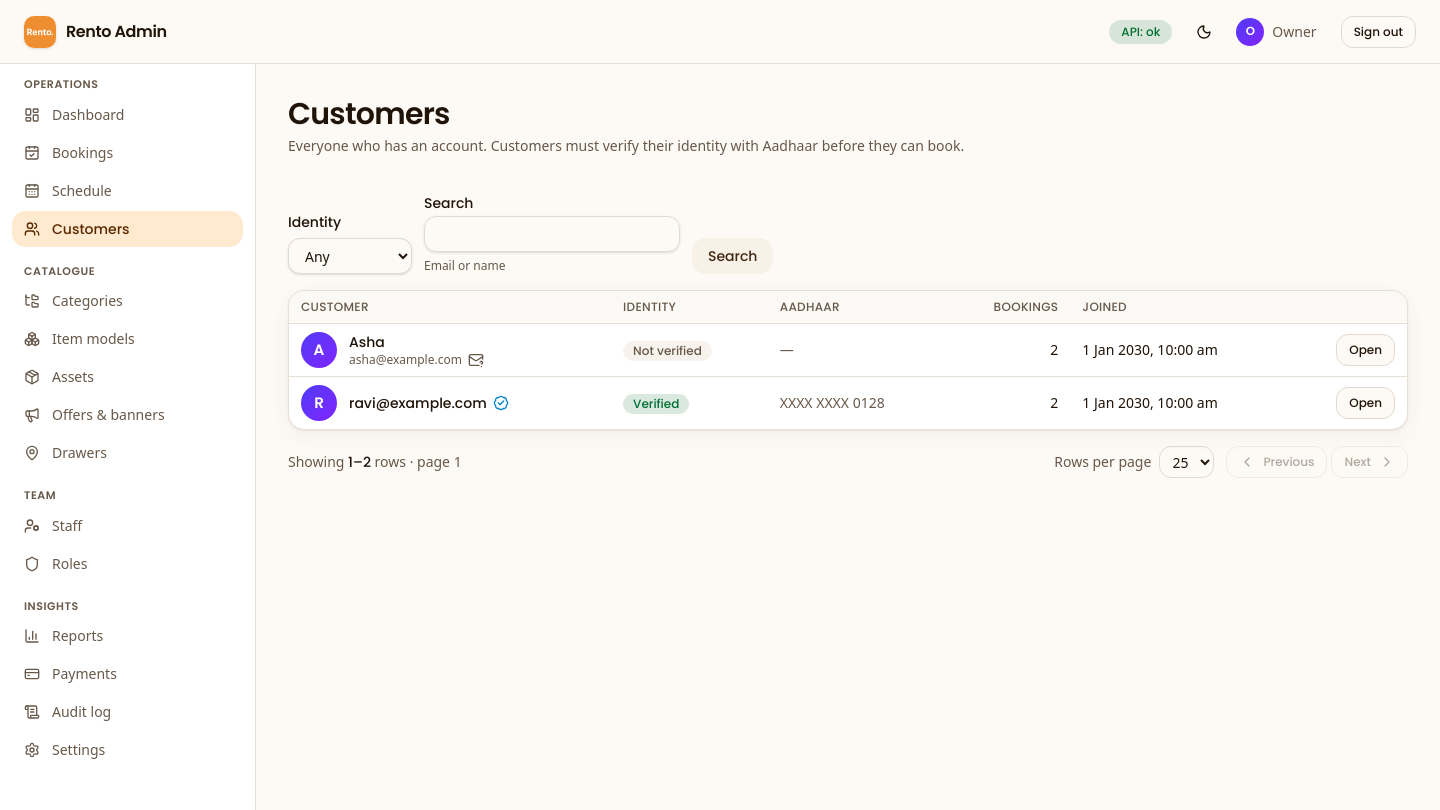
Test: customers › U-08 a refusal by the server (permission changed meanwhile) is shown in the dialog
The image size is (1440, 810).
Step 1. Click the button with aria-label "Open asha@example.com" → [1366, 350], box [1336,334,1395,366]
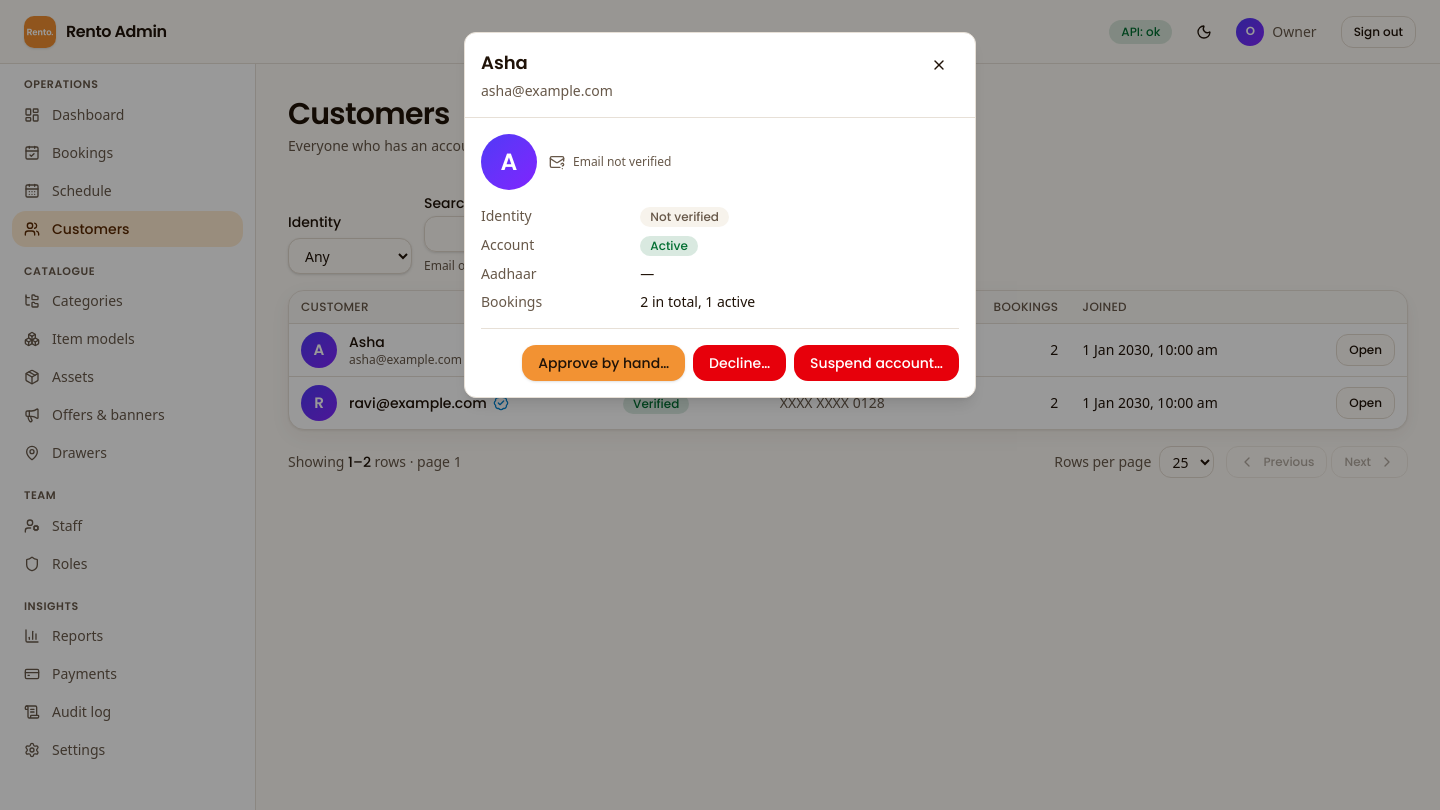
Step 2. Click the button "Decline…" → [740, 363], box [693,345,786,381]
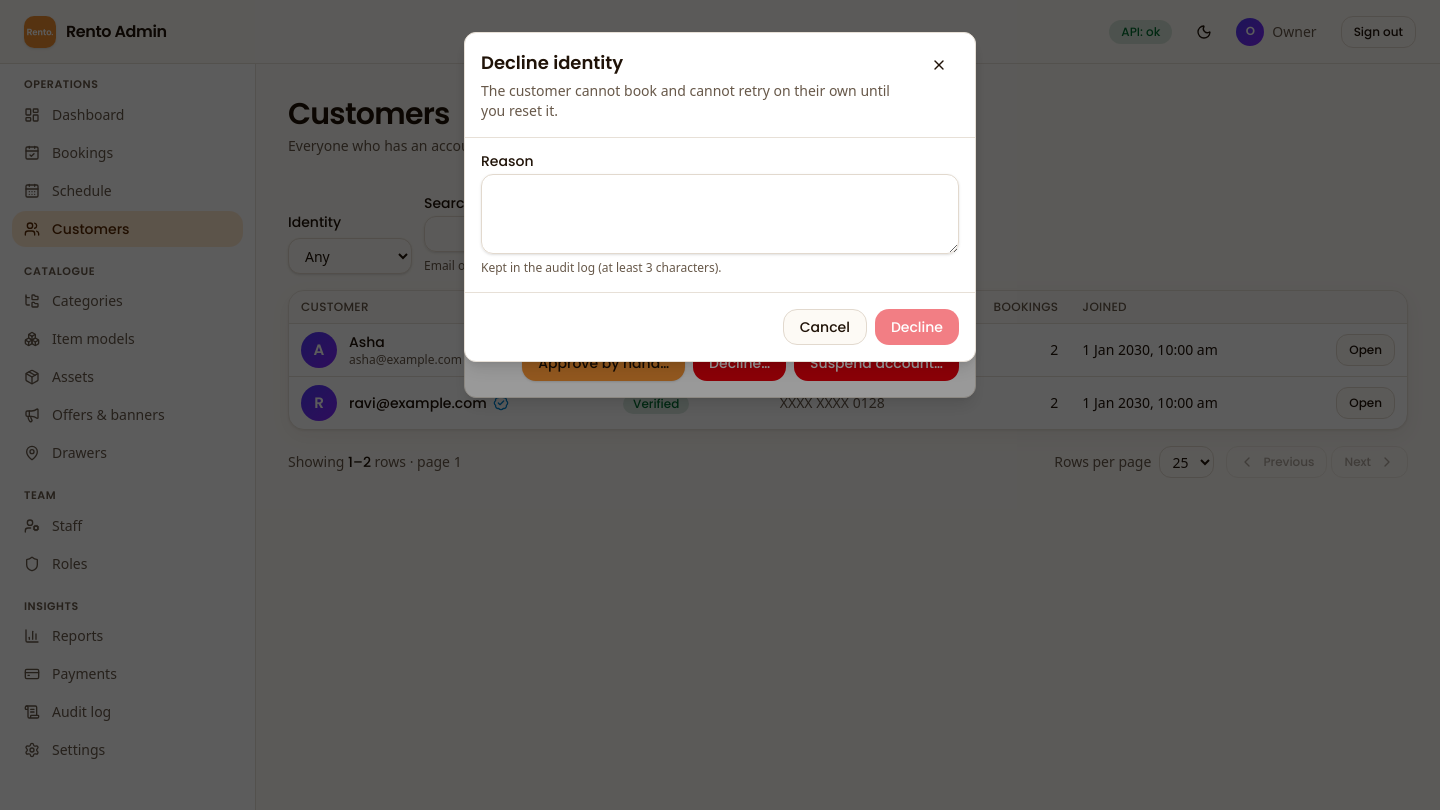
Step 3. Type "Name does not match" into the text box labelled "Reason" → [720, 214], box [481,174,959,254]
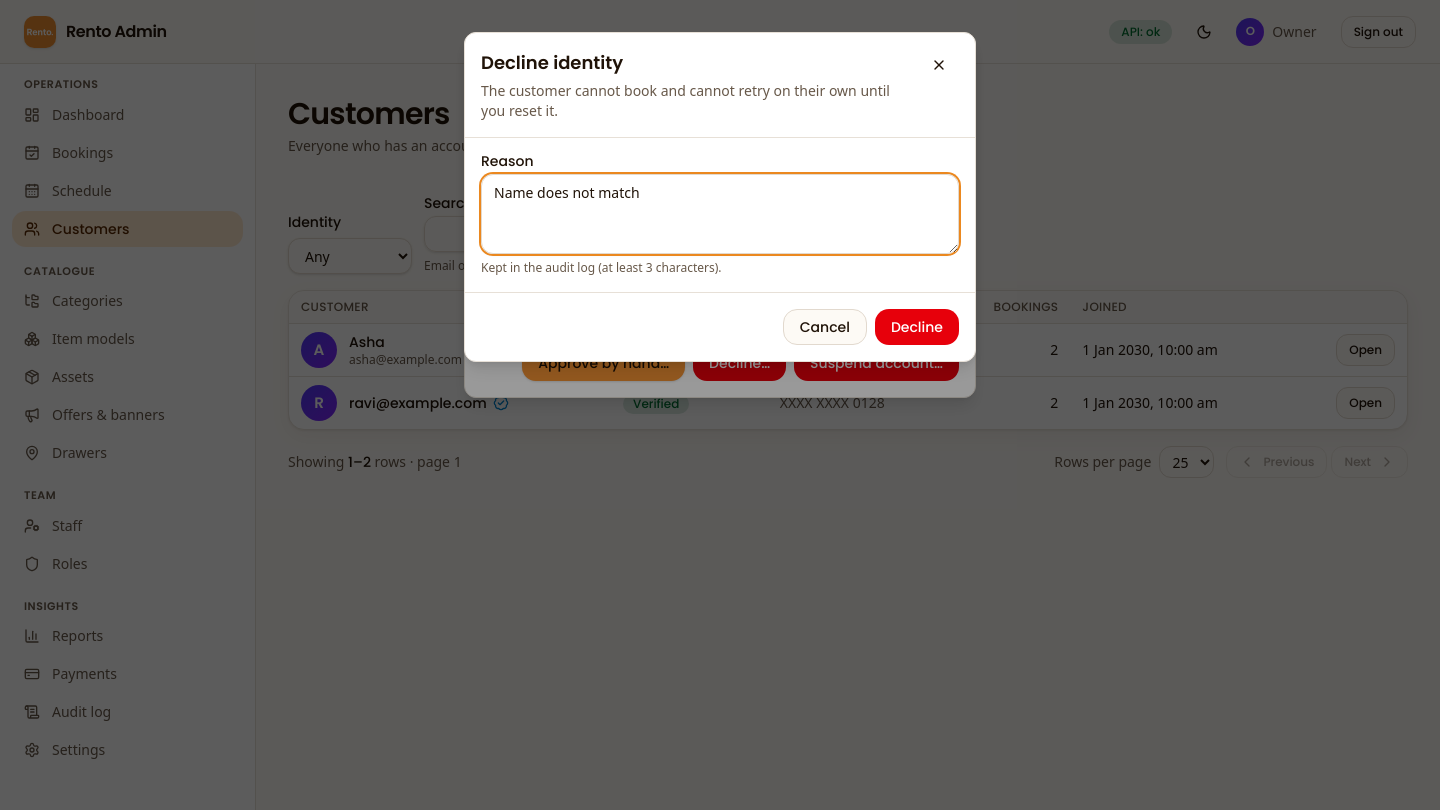
Step 4. Click the button "Decline" → [917, 327], box [875,309,959,345]
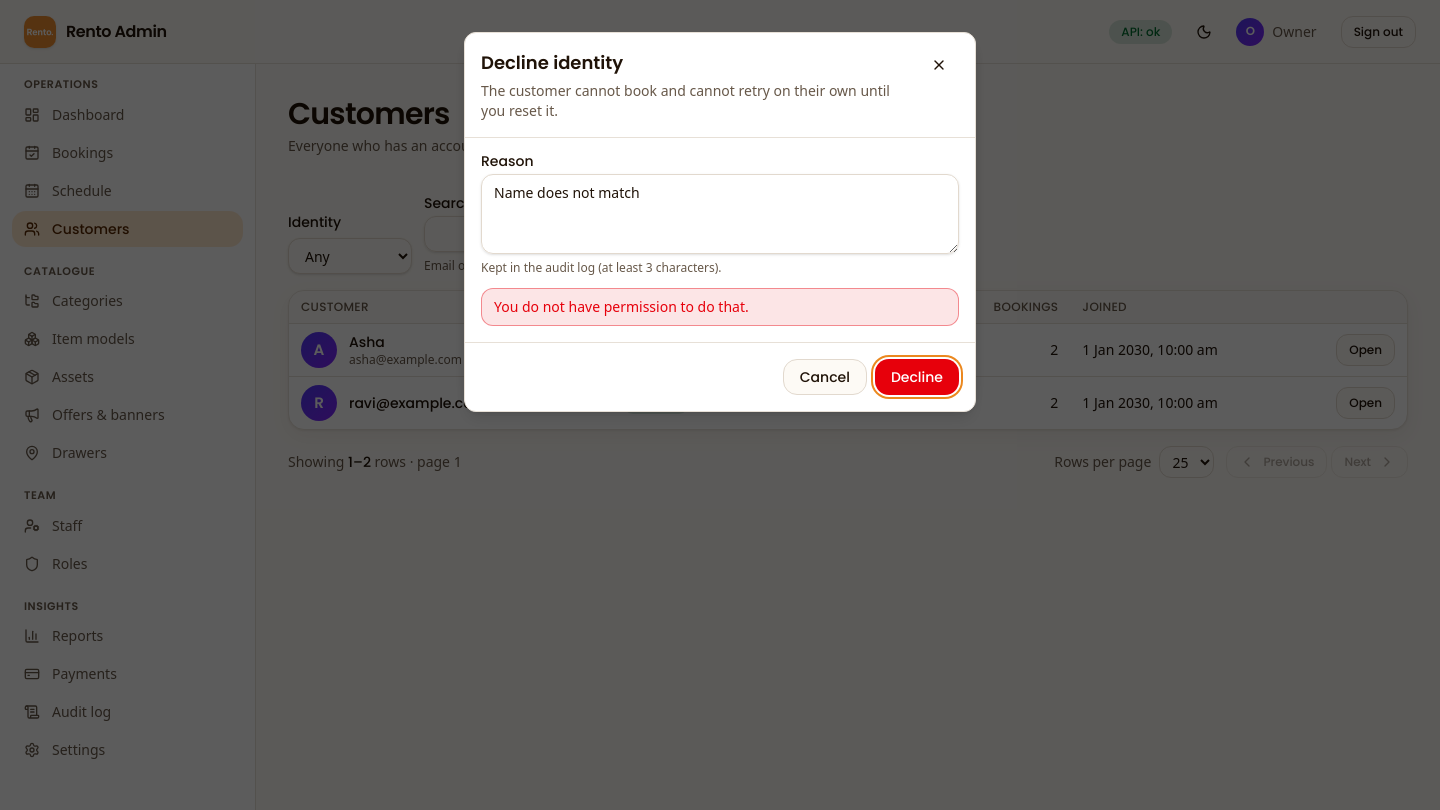
expect the message reads "You do not have permission to do that.": met, box [494,297,749,316]
